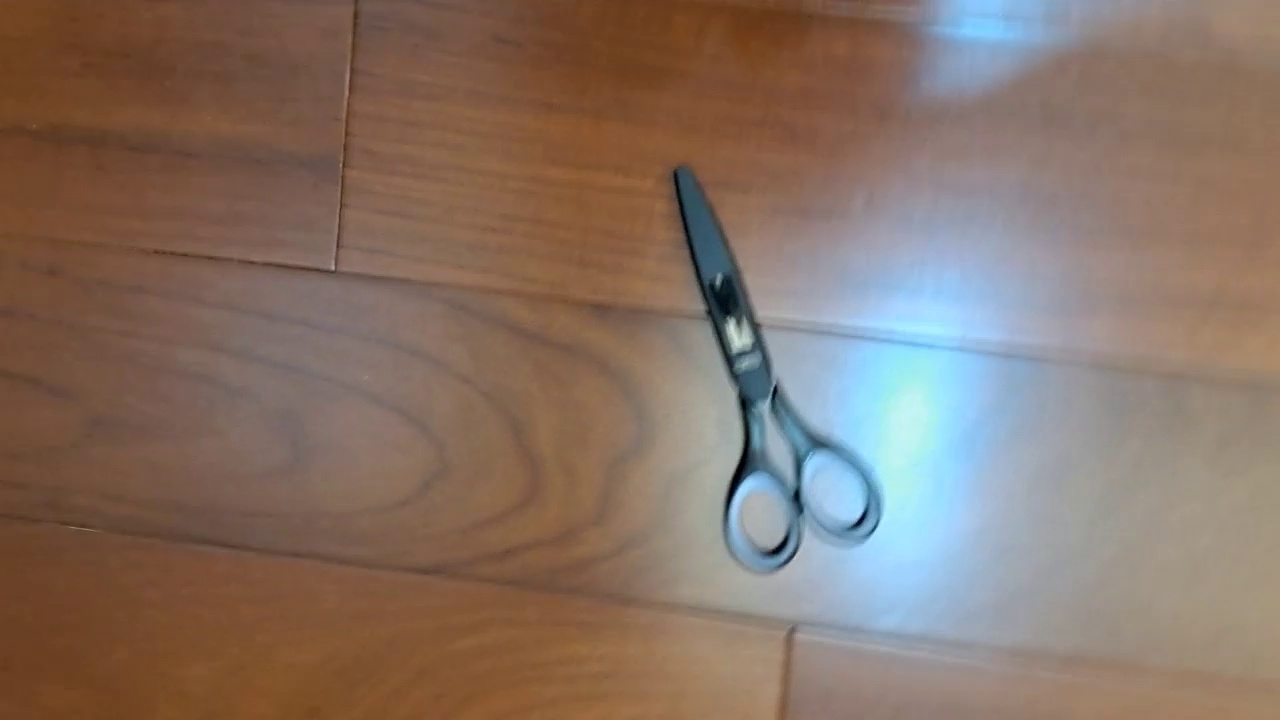scissors: (671, 161, 885, 576)
